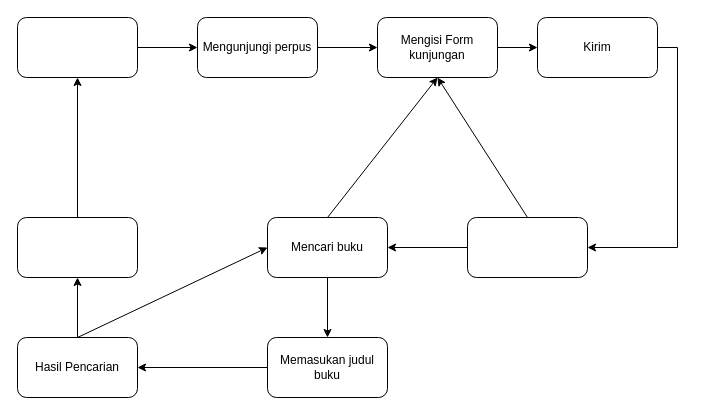
This 703x415 diagram has some shape labels left out. The shapes that lost their labels are listed below. From the top down, each one's centre as x and y in pixels, then its label:
(x=77, y=47): User
(x=77, y=247): Selesai
(x=527, y=247): Melihat Daftar riwayat kunjungan
